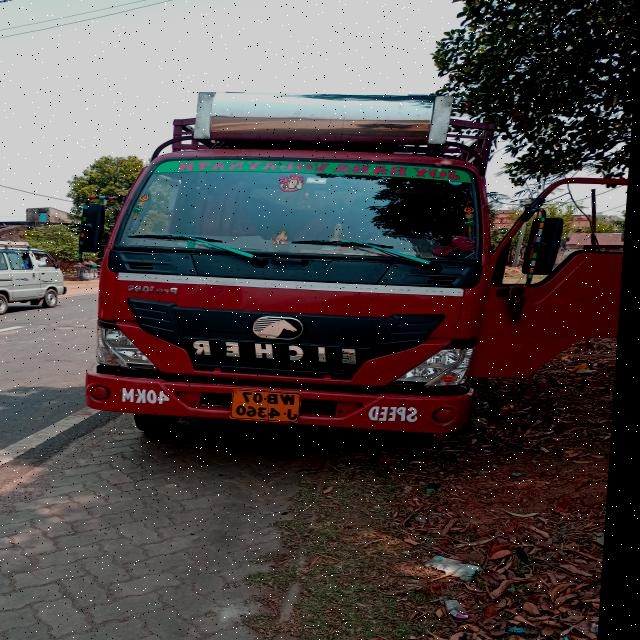plate: (235, 388, 307, 423)
